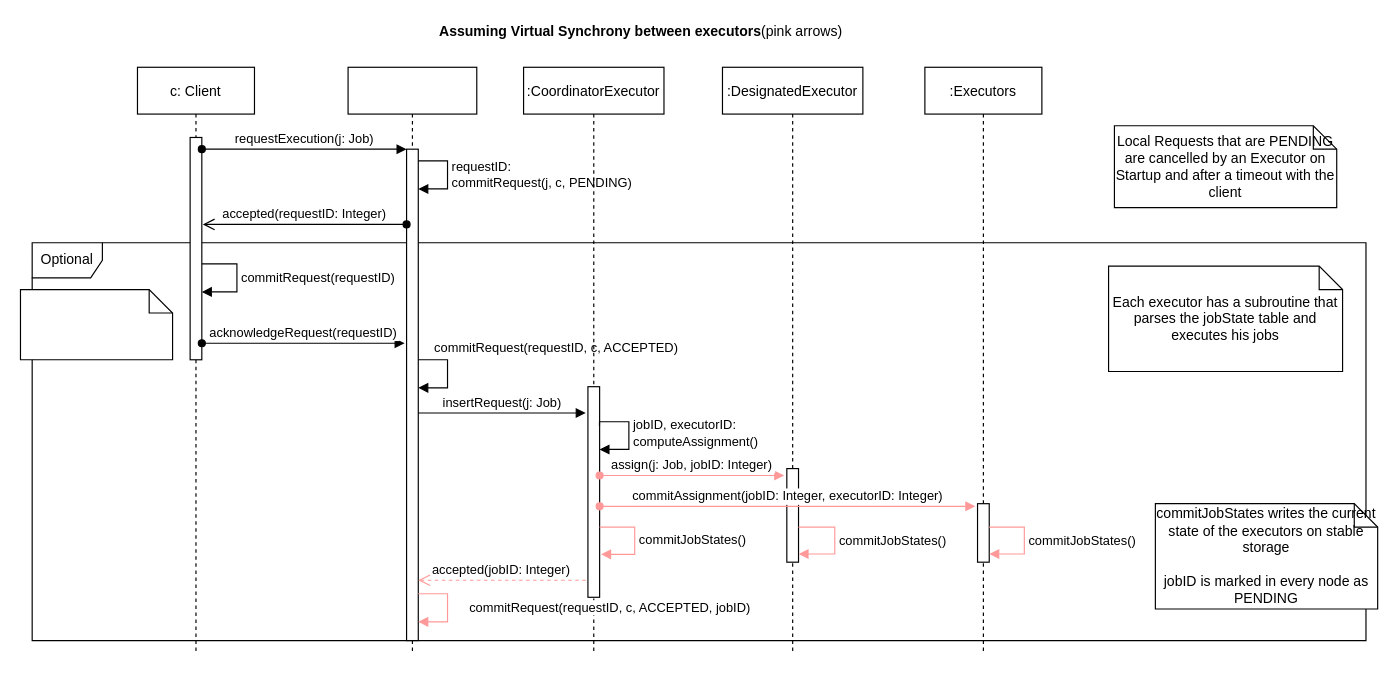
This 1398x673 diagram has some shape labels left out. Here are the shapes that lost their labels. From the top down, the box of each, then its label:
(19, 288, 173, 360): If client doesn't crash
(347, 66, 477, 652): :InterfaceExecutor
